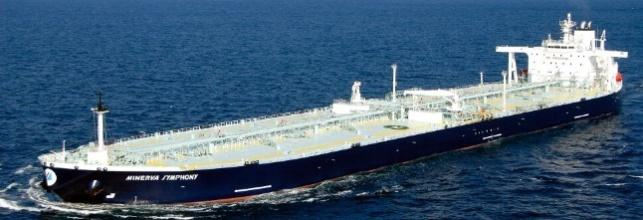Cargoship: (35, 17, 632, 202)
